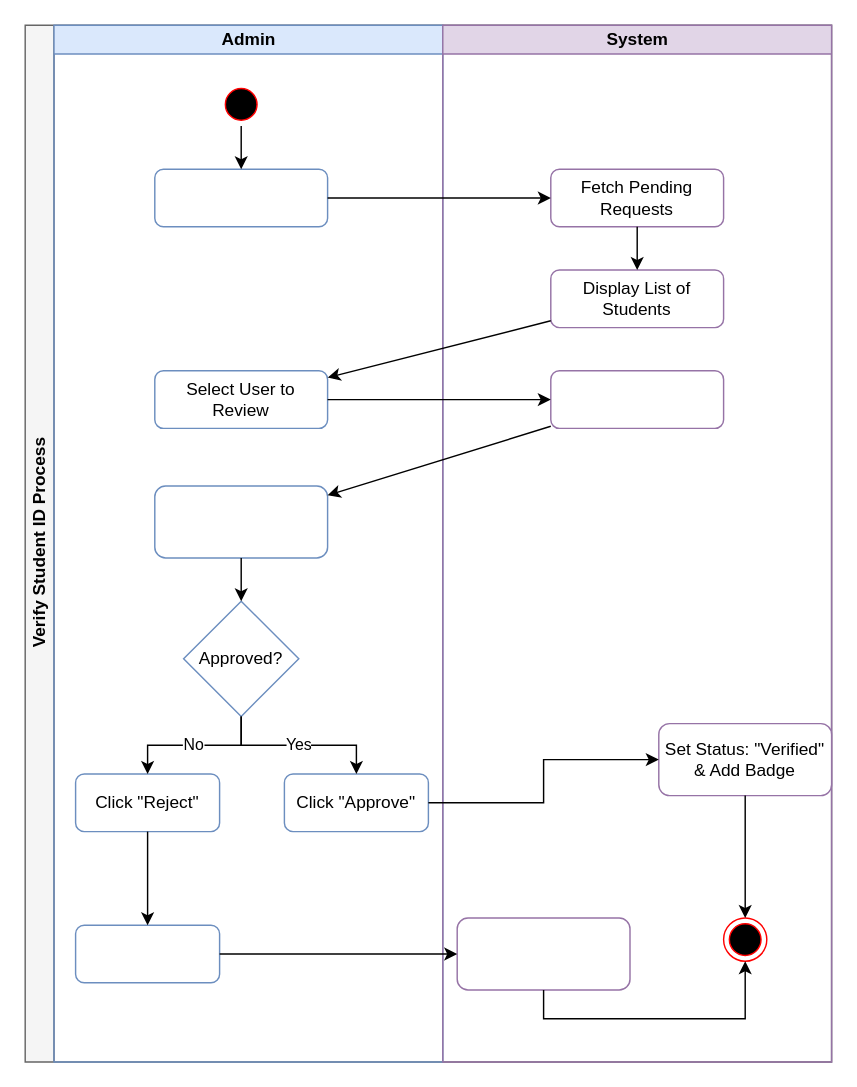
This 857x1087 diagram has some shape labels left out. The shapes that lost their labels are listed below. From the top down, each one's centre as x and y in pixels, then its label:
pixel 240 197: Open Verification Queue
pixel 636 398: Display ID Image & Profile Data
pixel 240 521: Compare Name vs ID Card Image
pixel 147 953: Enter Rejection Reason
pixel 543 953: Set Status: "Rejected" & Send Notification
